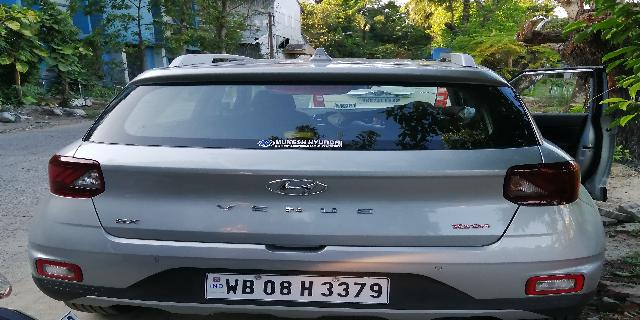Car: (25, 44, 611, 320)
